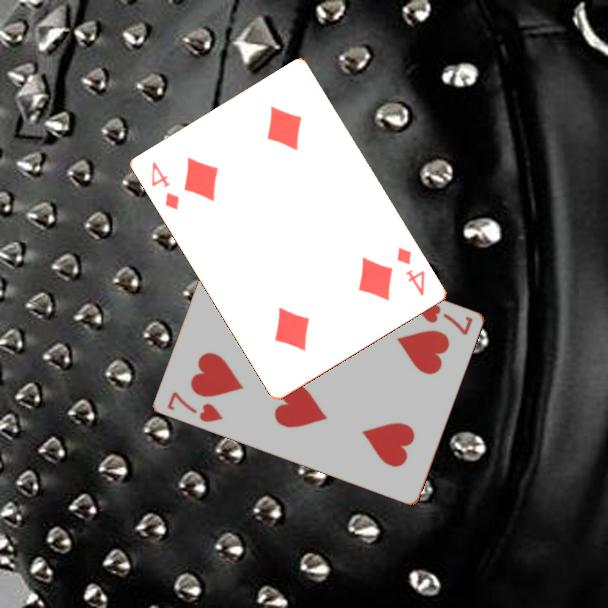d04: (393, 243, 428, 299), (148, 158, 183, 213)
h07: (163, 388, 226, 425), (413, 301, 475, 338)
